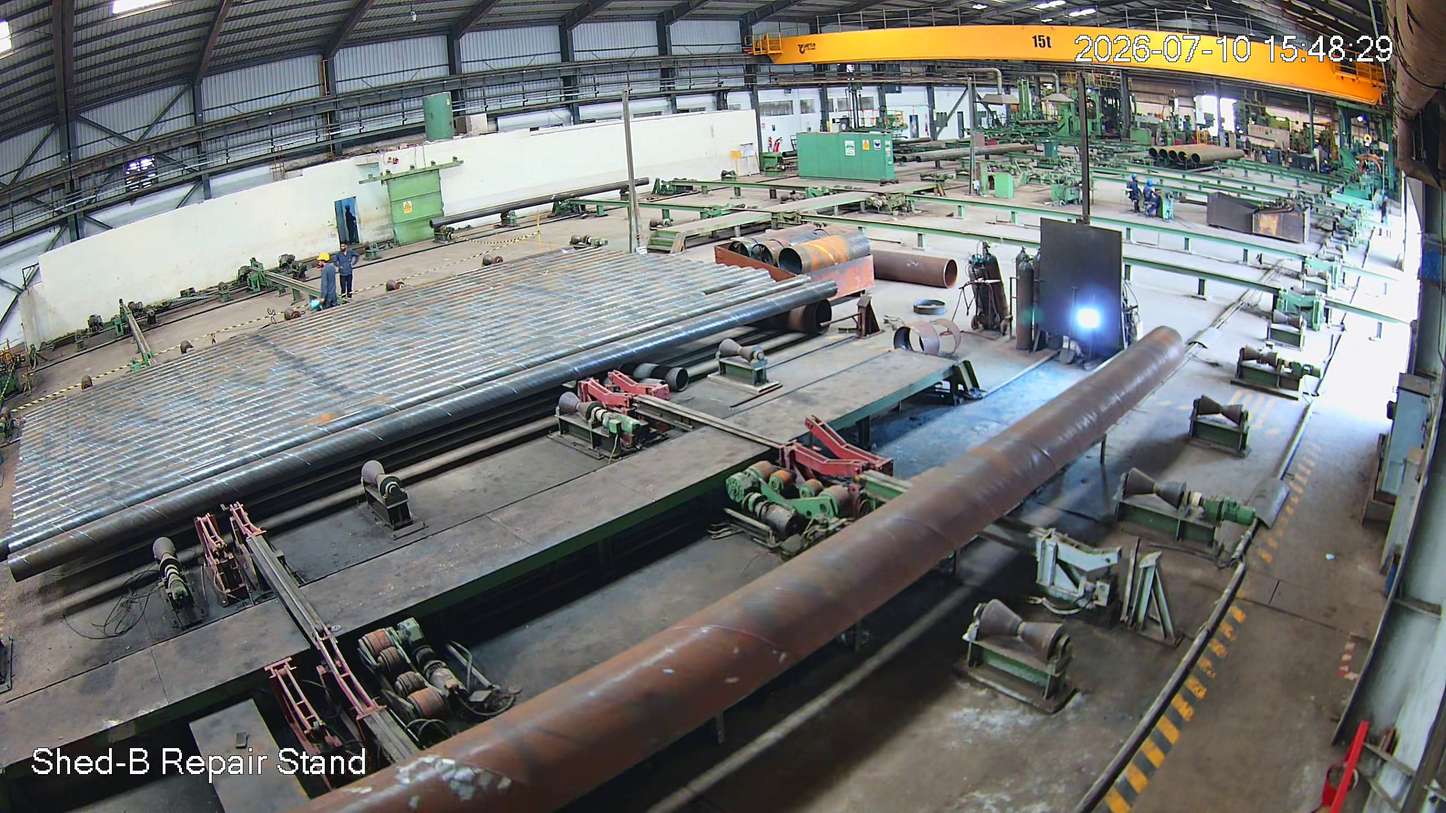Helmet: (313, 248, 333, 276)
Person: (315, 252, 340, 311), (335, 240, 358, 302)
